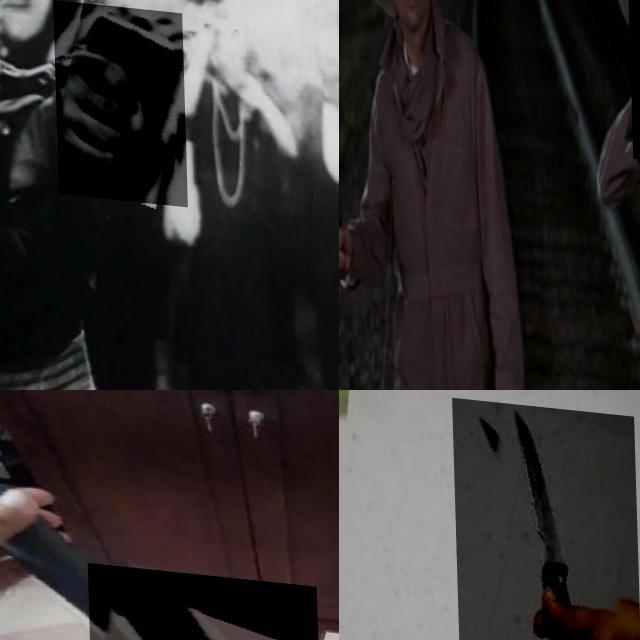-: (451, 391, 640, 640), (85, 560, 320, 640)
gun-knife-thesis - v11 Yolov5 augmented: (52, 0, 185, 198)
